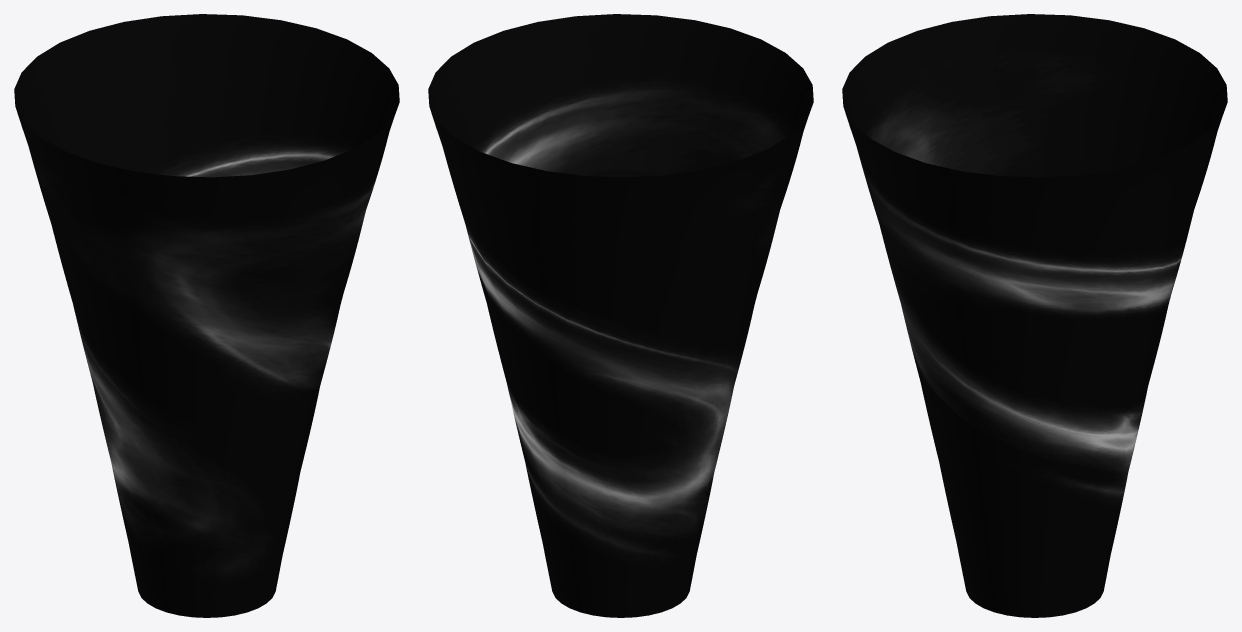
The model's file is 0092_M_feng01.glb.
The picture shows the model from 3 angles, left to right: view 1: azimuth 30°, elevation 25°; view 2: azimuth 150°, elevation 25°; view 3: azimuth 270°, elevation 25°; orthographic projection.
Size of the model in its own units: 1.56 by 2.2 by 1.56.
1 material, 1 textured.
